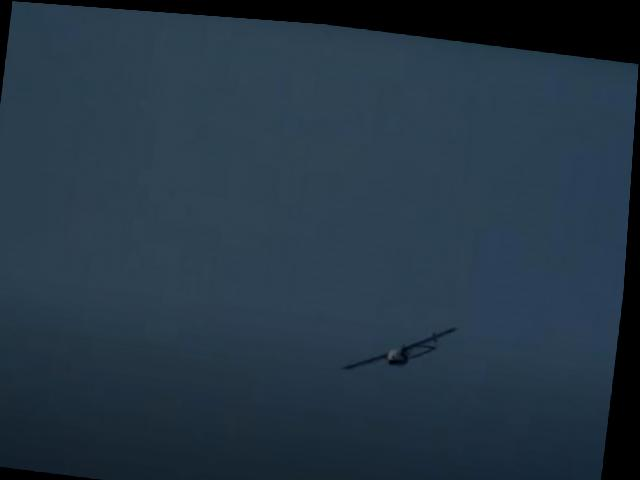iha: (348, 308, 462, 376)
